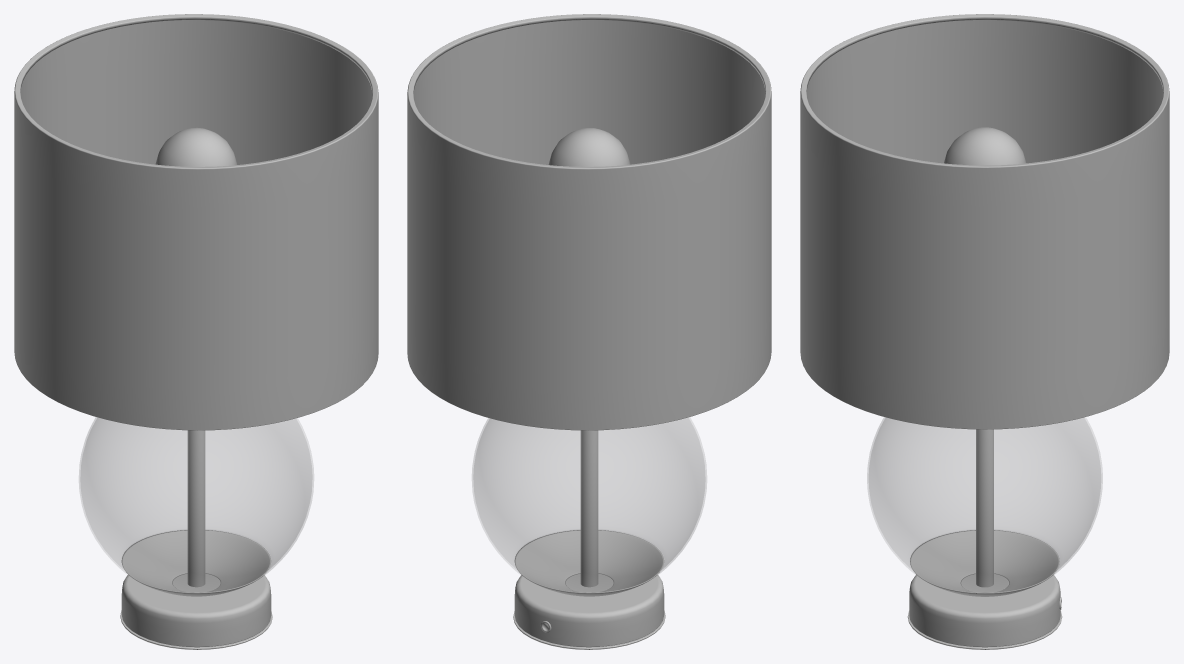
Rendered from Iridescence.glb.
The picture shows the model from 3 angles, left to right: view 1: azimuth 30°, elevation 25°; view 2: azimuth 150°, elevation 25°; view 3: azimuth 270°, elevation 25°; orthographic projection.
Visible parts, largest first — view 1: lamp, lamp_iridescence, lamp_transmission; view 2: lamp, lamp_iridescence, lamp_transmission; view 3: lamp, lamp_iridescence, lamp_transmission.
Part boxes in pixels (box(x1,y1,x2,y2)): lamp: box(14, 14, 378, 649); lamp_iridescence: box(20, 20, 372, 164); lamp_transmission: box(79, 417, 313, 592); lamp: box(407, 14, 771, 649); lamp_iridescence: box(413, 20, 765, 164); lamp_transmission: box(472, 417, 706, 592); lamp: box(800, 14, 1169, 649); lamp_iridescence: box(806, 20, 1163, 163); lamp_transmission: box(867, 417, 1102, 592).
Size of the model in its own units: 0.2973 by 0.4761 by 0.3019.
3 materials, 3 textured.
